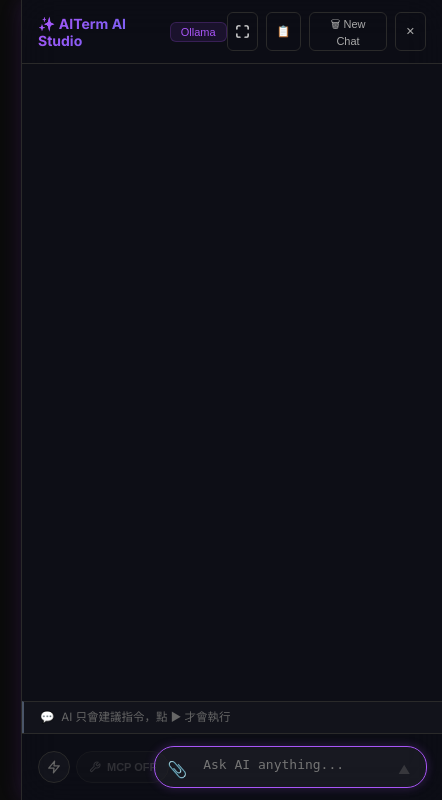
Test: AiPanel › 🗑 New Chat button clears messages
Type "hi" into the text box at [291, 767], box [197, 751, 384, 783]
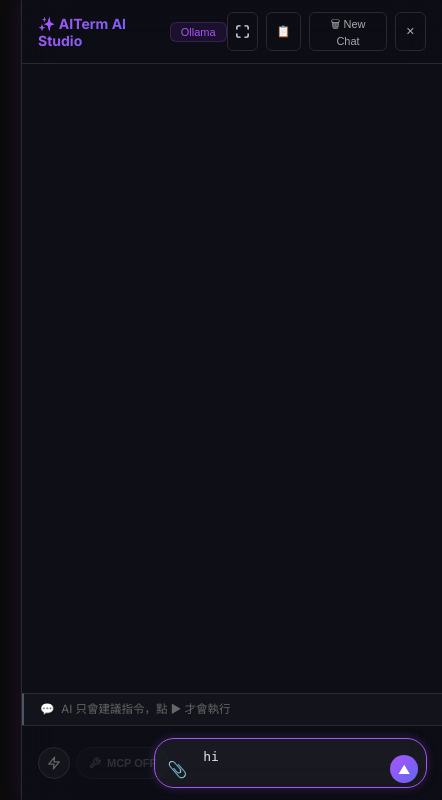
Press Enter
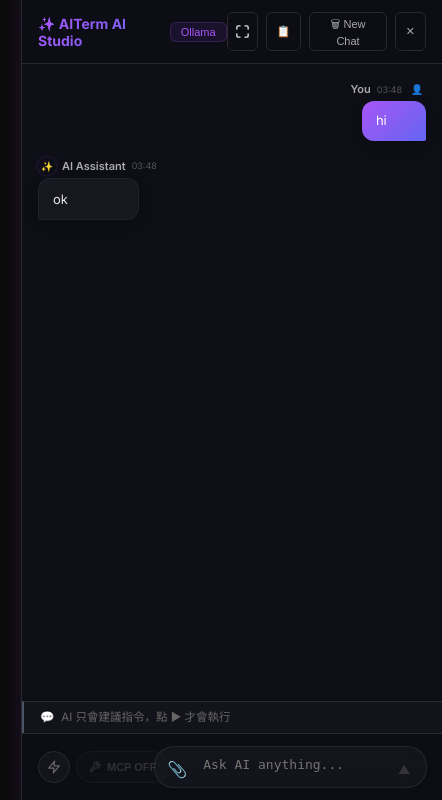
Result: the text "ok" is shown at [53, 190, 68, 206]
Click the button "🗑 New Chat" at [348, 32], box [309, 12, 387, 51]
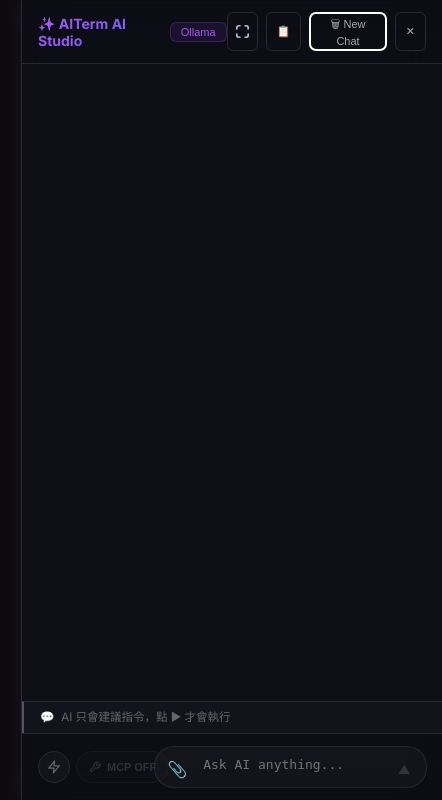
Result: the text "ok" is gone
